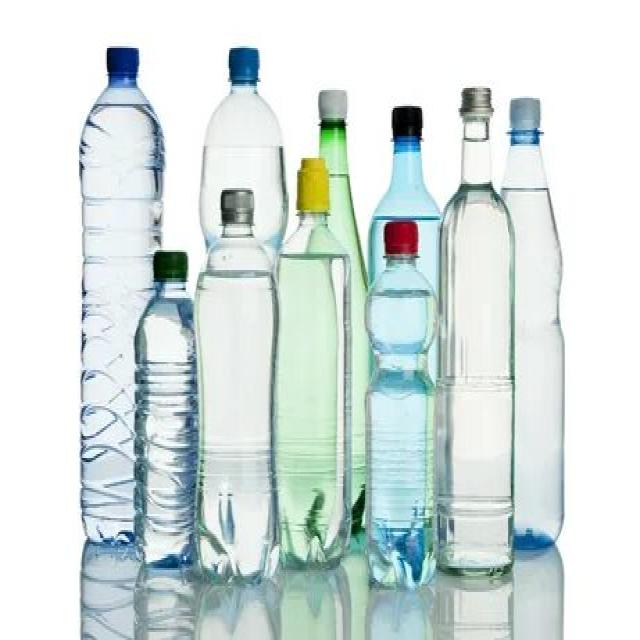blue: (504, 128, 564, 552), (136, 282, 196, 572), (80, 75, 163, 255)
